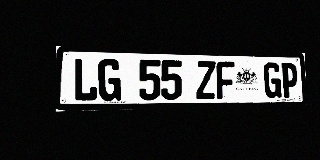5: (139, 60, 161, 100), (161, 60, 182, 100)
F: (216, 61, 235, 99)
G: (98, 59, 121, 101), (264, 62, 281, 98)
L: (73, 58, 97, 102)
P: (281, 63, 298, 98)
Z: (196, 61, 216, 99)
